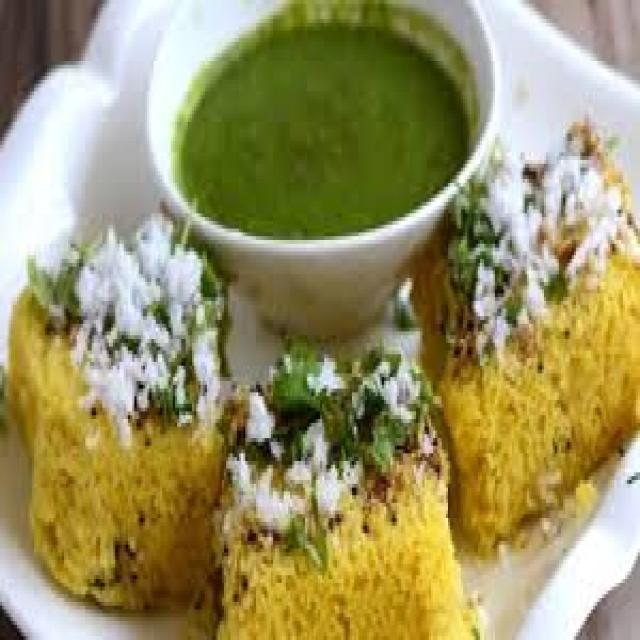DHOKLA: (415, 120, 638, 560), (8, 202, 225, 629), (213, 340, 482, 636)
